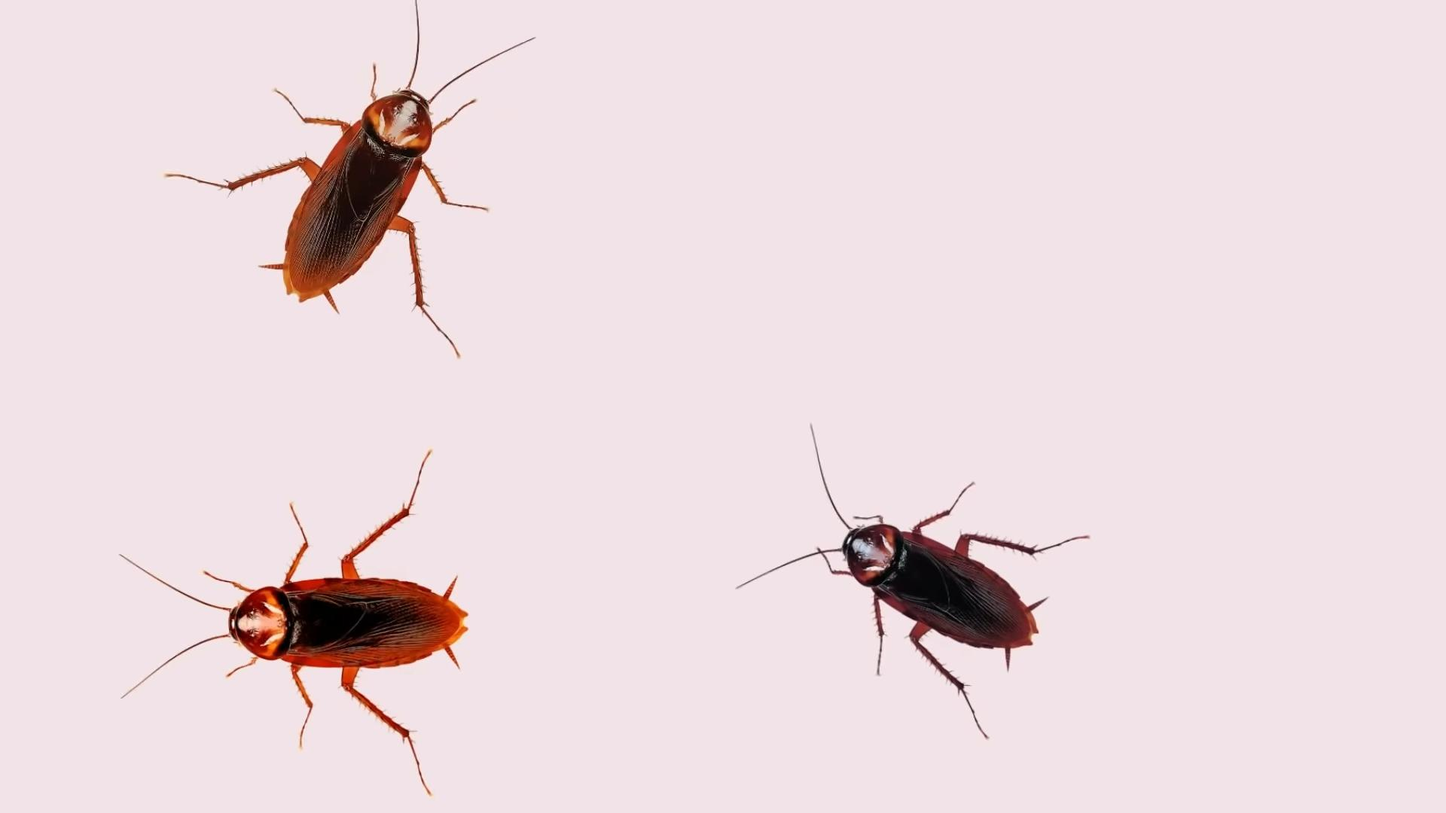cockroach: (795, 467, 1043, 696), (181, 524, 474, 684), (281, 81, 459, 334)
